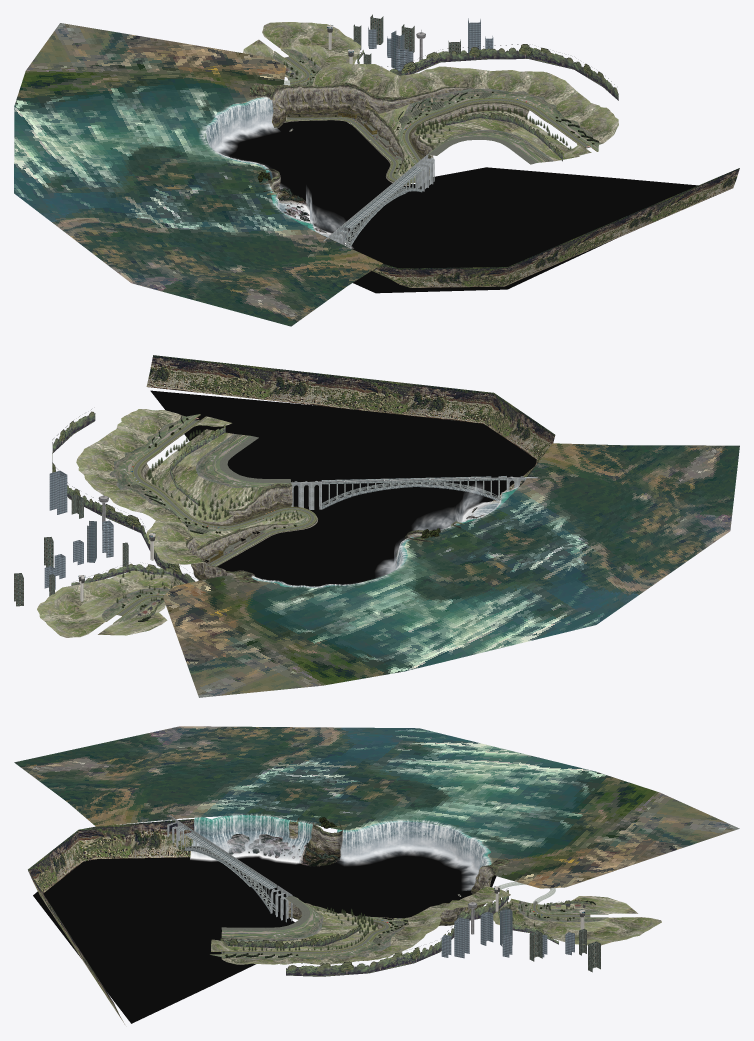
The model's file is stage-niag.glb.
The picture shows the model from 3 angles, top to bottom: view 1: azimuth 30°, elevation 25°; view 2: azimuth 150°, elevation 25°; view 3: azimuth 270°, elevation 25°; orthographic projection. The views are drawn at different scales.
Parts seen in each view (by area): view 1: part 1 chunk -8,-4, part 9 chunk -3,-1, part 1 chunk -3,2, part 1 chunk -4,-6, part 1 chunk -2,-2, part 7 chunk -6,-5, part 1 chunk 0,-2, part 8 chunk -6,-1, part 1 chunk -3,-6, part 1 chunk 0,-4, part 1 chunk -2,-5, part 1 chunk -2,-9 (+12 smaller); view 2: part 1 chunk -8,-4, part 9 chunk -3,-1, part 1 chunk -3,2, part 1 chunk -2,-2, part 8 chunk -6,-1, part 1 chunk 0,-2, part 7 chunk -7,-1, part 1 chunk -2,-9, part 1 chunk 0,-4, part 1 chunk -3,-6, part 1 chunk -3,-3, part 1 chunk -3,-7 (+17 smaller); view 3: part 1 chunk -8,-4, part 9 chunk -3,-1, part 1 chunk -3,2, part 7 chunk -6,-5, part 7 chunk -7,-1, part 1 chunk -2,-2, part 8 chunk -6,-1, part 2 chunk 0,-4, part 7 chunk -7,-3, part 1 chunk -2,-9, part 1 chunk -2,-5, part 1 chunk 0,-2 (+13 smaller).
Boxes of the visible parts, <box> form: part 1 chunk -8,-4: <box>14,23,382,326</box>; part 9 chunk -3,-1: <box>219,120,698,293</box>; part 1 chunk -3,2: <box>320,168,739,287</box>; part 1 chunk -4,-6: <box>249,82,409,128</box>; part 1 chunk -2,-2: <box>414,110,579,162</box>; part 7 chunk -6,-5: <box>199,96,287,189</box>; part 1 chunk 0,-2: <box>539,92,618,146</box>; part 8 chunk -6,-1: <box>323,153,434,247</box>; part 1 chunk -3,-6: <box>312,63,399,97</box>; part 1 chunk 0,-4: <box>486,70,577,104</box>; part 1 chunk -2,-5: <box>398,66,491,97</box>; part 1 chunk -2,-9: <box>262,22,360,55</box>; part 1 chunk -8,-4: <box>163,443,739,697</box>; part 9 chunk -3,-1: <box>150,390,536,587</box>; part 1 chunk -3,2: <box>146,355,555,503</box>; part 1 chunk -2,-2: <box>146,429,290,522</box>; part 8 chunk -6,-1: <box>291,476,537,509</box>; part 1 chunk 0,-2: <box>98,409,193,459</box>; part 7 chunk -7,-1: <box>412,484,519,531</box>; part 1 chunk -2,-9: <box>37,583,95,637</box>; part 1 chunk 0,-4: <box>76,441,124,490</box>; part 1 chunk -3,-6: <box>146,520,204,564</box>; part 1 chunk -3,-3: <box>202,481,301,528</box>; part 1 chunk -3,-7: <box>84,570,185,596</box>; part 1 chunk -8,-4: <box>14,726,739,888</box>; part 9 chunk -3,-1: <box>33,850,496,1023</box>; part 1 chunk -3,2: <box>28,819,194,1024</box>; part 7 chunk -6,-5: <box>337,819,492,890</box>; part 7 chunk -7,-1: <box>190,814,315,864</box>; part 1 chunk -2,-2: <box>221,896,377,950</box>; part 8 chunk -6,-1: <box>163,814,292,922</box>; part 2 chunk 0,-4: <box>286,942,440,976</box>; part 7 chunk -7,-3: <box>289,818,342,866</box>; part 1 chunk -2,-9: <box>553,917,661,945</box>; part 1 chunk -2,-5: <box>390,909,445,946</box>; part 1 chunk 0,-2: <box>221,953,323,964</box>.
Bounding box in the file's own units: 4299 × 468 × 4781.
Materials: 112 (110 with a texture image).
